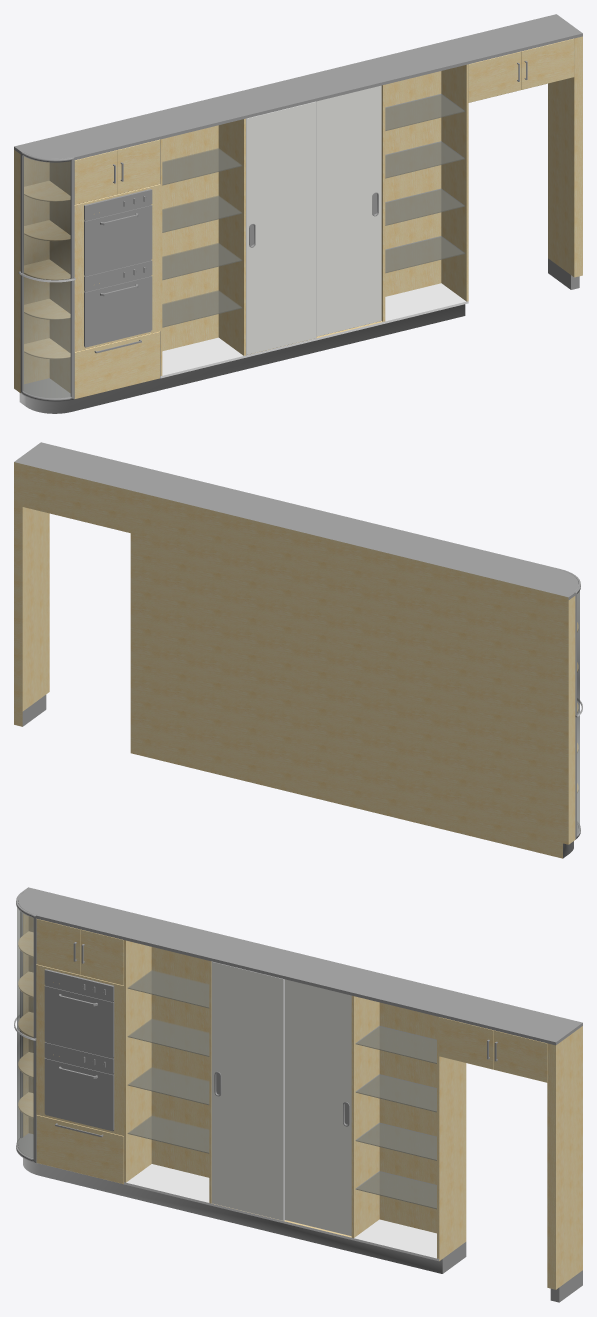
The model's file is kitchen-linear.glb.
3 views of the same model, one above another, from view 1: azimuth 30°, elevation 25°; view 2: azimuth 150°, elevation 25°; view 3: azimuth 330°, elevation 25° (orthographic). The views are drawn at different scales.
Visible parts, largest first — view 1: _(Loose Entity), C-Large Door, C-Large Door.001, G-Object, C-Oven.001, C-Oven, G-Object.002, G-Object.005, G-Object.004, G-Object.001, G-Object.003; view 2: _(Loose Entity), G-Object; view 3: _(Loose Entity), C-Large Door, C-Large Door.001, C-Oven.001, C-Oven, G-Object, G-Object.002, G-Object.004, G-Object.005, G-Object.001, G-Object.003.
Boxes of the visible parts, x1,y1,x2,y2 form: _(Loose Entity): (14, 14, 582, 413); C-Large Door: (246, 101, 316, 355); C-Large Door.001: (316, 85, 381, 336); G-Object: (18, 151, 75, 401); C-Oven.001: (84, 189, 152, 276); C-Oven: (84, 260, 152, 347); G-Object.002: (74, 331, 159, 398); G-Object.005: (468, 51, 521, 102); G-Object.004: (521, 38, 574, 89); G-Object.001: (74, 150, 117, 204); G-Object.003: (117, 139, 159, 194); _(Loose Entity): (14, 442, 578, 858); G-Object: (560, 569, 582, 839); _(Loose Entity): (18, 887, 582, 1302); C-Large Door: (211, 961, 284, 1220); C-Large Door.001: (285, 979, 351, 1236); C-Oven.001: (44, 969, 114, 1058); C-Oven: (44, 1042, 114, 1131); G-Object: (14, 892, 36, 1162); G-Object.002: (36, 1115, 123, 1184); G-Object.004: (493, 1030, 547, 1082); G-Object.005: (439, 1017, 493, 1069); G-Object.001: (36, 919, 80, 974); G-Object.003: (80, 929, 123, 985).
Bounding box in the file's own units: 4.84 × 2.18 × 0.4586.
10 materials, 1 textured.
